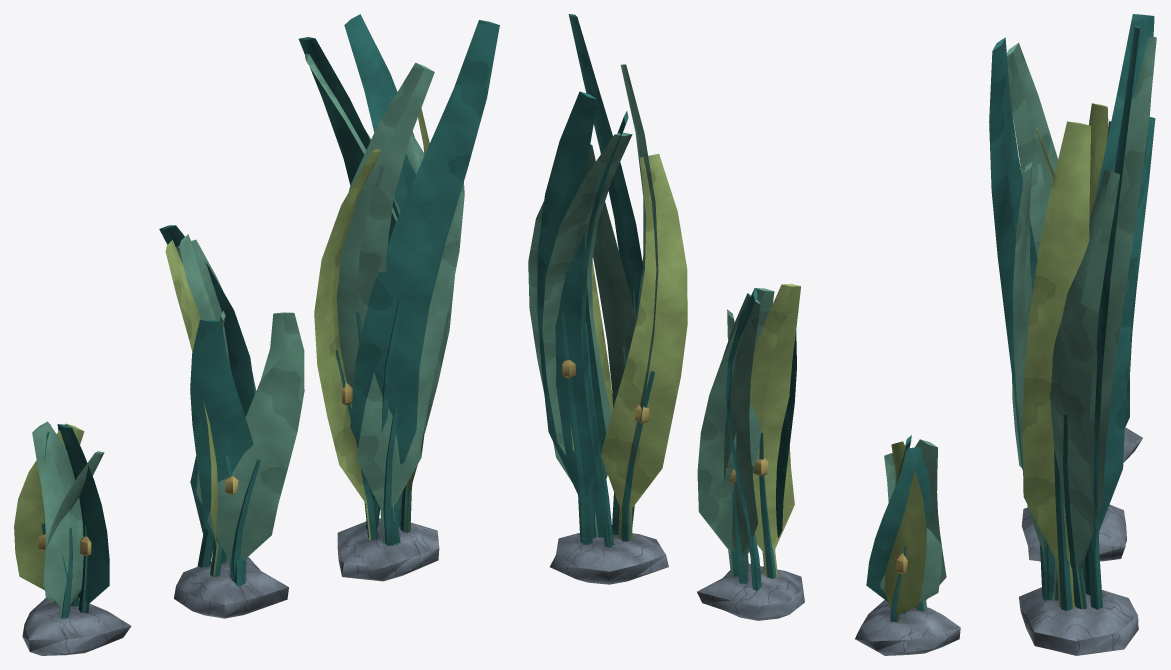
The picture shows the model from 3 angles, left to right: view 1: azimuth 30°, elevation 25°; view 2: azimuth 150°, elevation 25°; view 3: azimuth 270°, elevation 25°; orthographic projection. The views are drawn at different scales.
Parts seen in each view (by area): view 1: DL007_KelpCluster_kelp_deep, DL007_KelpCluster_kelp_mid, DL007_KelpCluster_stone_blue, DL007_KelpCluster_kelp_lime, DL007_KelpCluster_kelp_gold; view 2: DL007_KelpCluster_kelp_deep, DL007_KelpCluster_kelp_mid, DL007_KelpCluster_kelp_lime, DL007_KelpCluster_stone_blue, DL007_KelpCluster_kelp_gold; view 3: DL007_KelpCluster_kelp_mid, DL007_KelpCluster_kelp_deep, DL007_KelpCluster_kelp_lime, DL007_KelpCluster_stone_blue.
Part boxes in pixels (x1,y1,x2,y2): DL007_KelpCluster_kelp_deep: (41,14,499,618); DL007_KelpCluster_kelp_mid: (32,54,464,618); DL007_KelpCluster_stone_blue: (22,518,439,655); DL007_KelpCluster_kelp_lime: (14,108,429,602); DL007_KelpCluster_kelp_gold: (38,382,352,556); DL007_KelpCluster_kelp_deep: (537,14,931,622); DL007_KelpCluster_kelp_mid: (528,64,946,611); DL007_KelpCluster_kelp_lime: (570,154,926,622); DL007_KelpCluster_stone_blue: (550,533,960,655); DL007_KelpCluster_kelp_gold: (562,360,907,574); DL007_KelpCluster_kelp_mid: (1006,36,1156,609); DL007_KelpCluster_kelp_deep: (989,14,1155,610); DL007_KelpCluster_kelp_lime: (1022,103,1108,608); DL007_KelpCluster_stone_blue: (1019,427,1142,655).
Bounding box in the file's own units: 5.05 × 6.05 × 1.43.
Materials: 5 (5 with a texture image).
